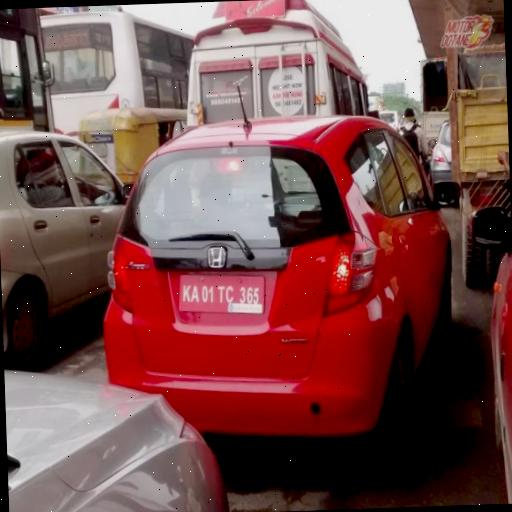number plate: (176, 268, 266, 321)
